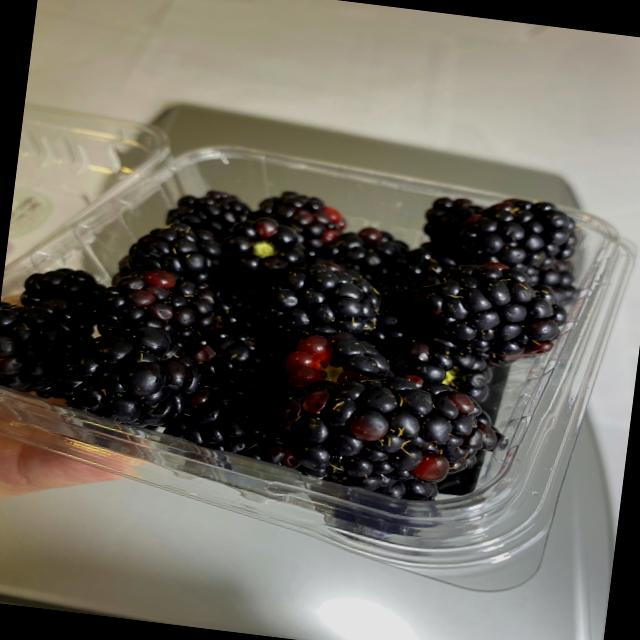blackberries: (0, 135, 608, 487)
